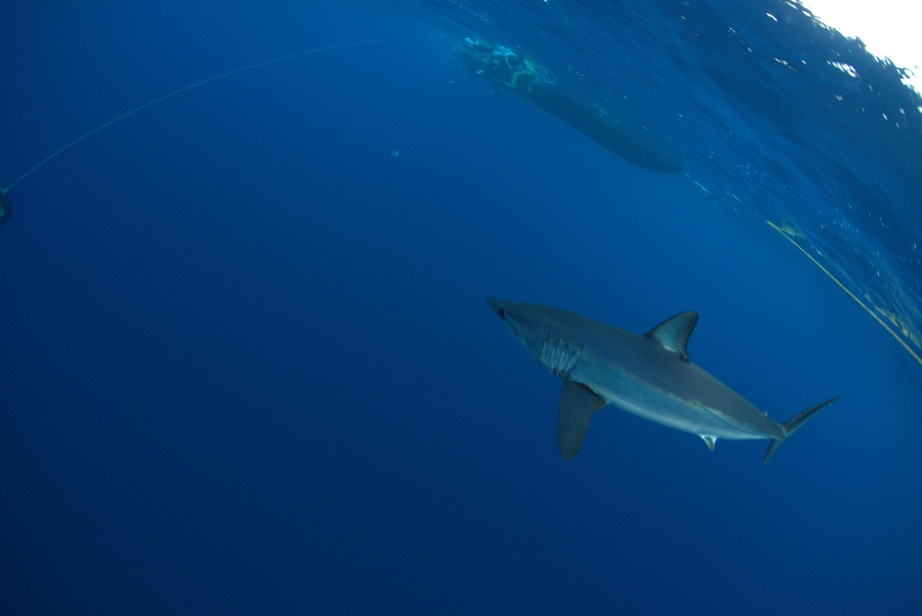Mako: (470, 278, 847, 494)
